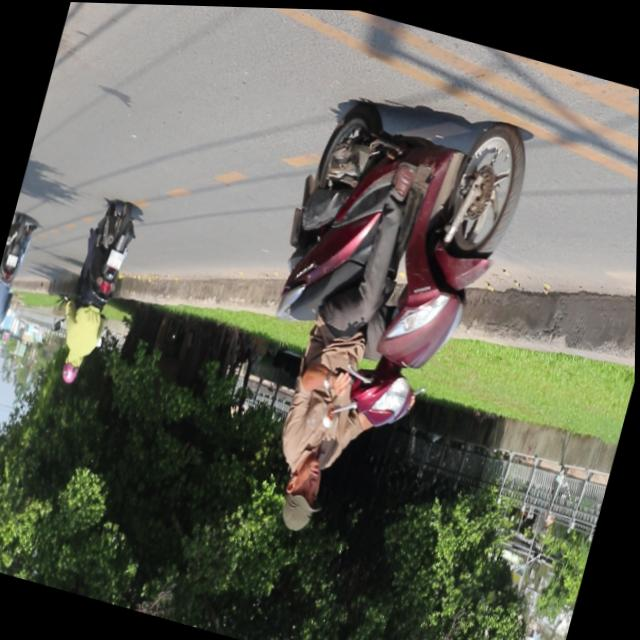helmet: (60, 353, 85, 387)
licenseplate: (208, 71, 544, 577), (48, 194, 144, 394)
motorcyclist: (275, 455, 332, 537)
